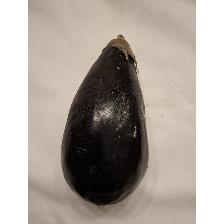Zwiebel: (60, 32, 152, 208)
